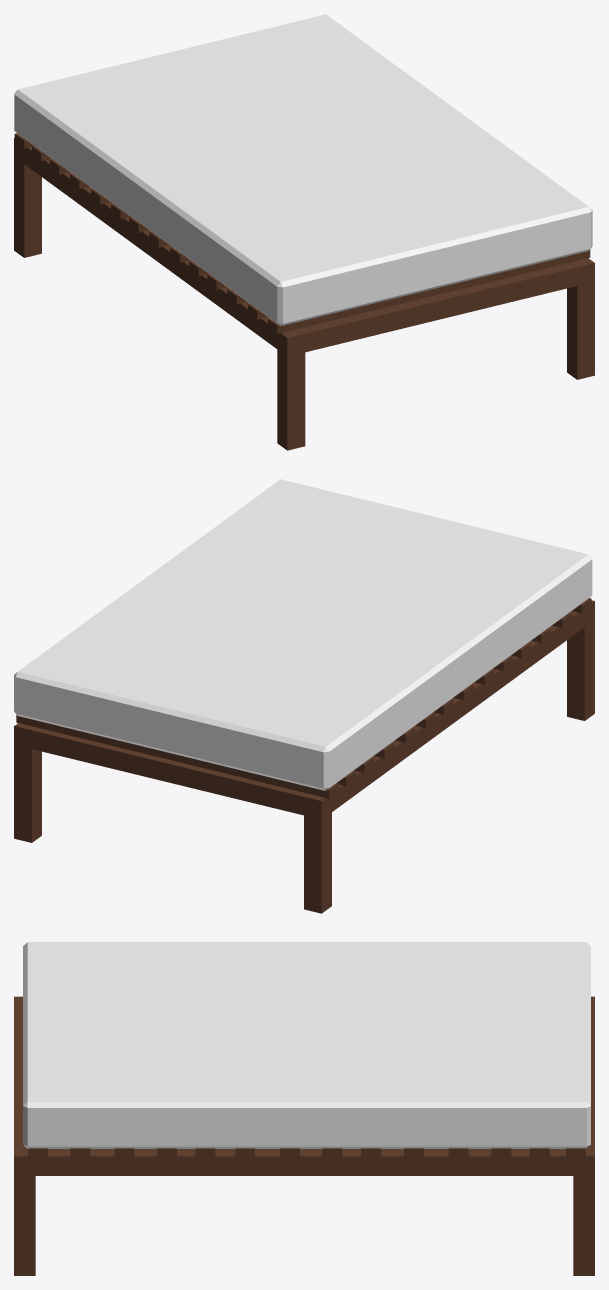
The model's file is bed.gltf.
The picture shows the model from 3 angles, top to bottom: view 1: azimuth 30°, elevation 25°; view 2: azimuth 150°, elevation 25°; view 3: azimuth 270°, elevation 25°; orthographic projection. The views are drawn at different scales.
Parts seen in each view (by area): view 1: Cube.001; view 2: Cube.001; view 3: Cube.001.
Boxes of the visible parts, x1,y1,x2,y2 form: Cube.001: (14,14,594,450); Cube.001: (14,479,594,913); Cube.001: (14,942,594,1275).
Bounding box in the file's own units: 1.45 × 0.7194 × 2.17.
1 material, 1 textured.
